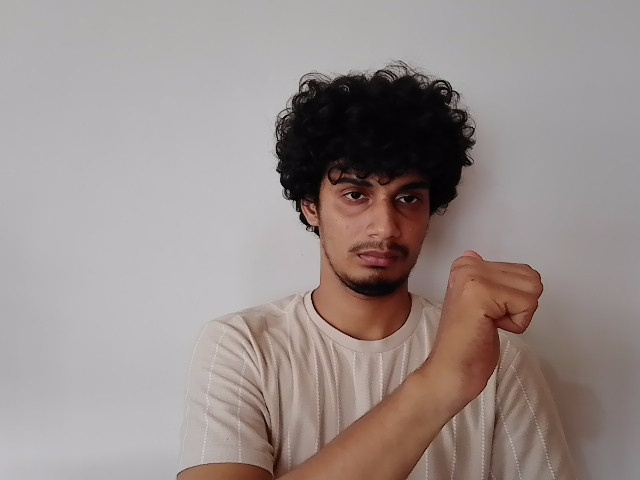how: (441, 249, 543, 389)
